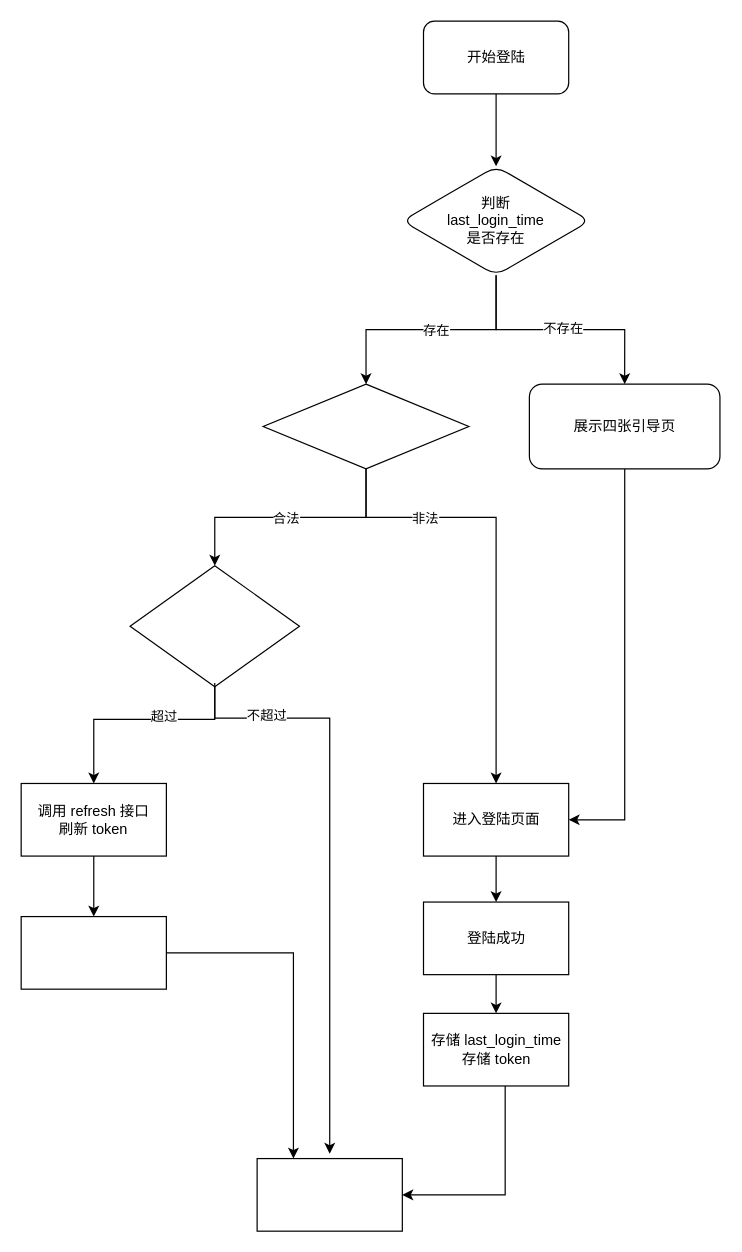
The diagram is 742 pixels wide and 1252 high, and some of its shapes have lost their labels. The centre of each missing label's shape, as x and y in pixels:
"判断 last_login_time 字段和当前时间差 是否超过一小时" goes at pixel 214 625.
"判断 token 是否合法" goes at pixel 365 426.
"更新 last_login_time 为当前时间" goes at pixel 93 952.
"进入 home 页面" goes at pixel 329 1194.
